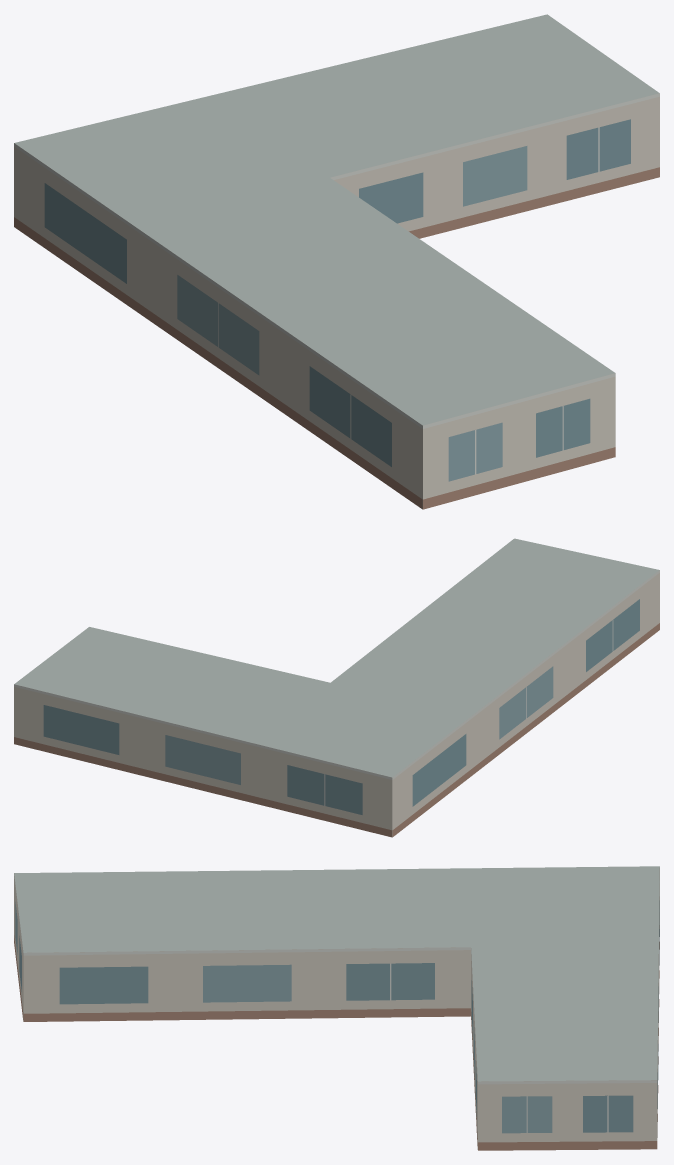
Rendered from survey-upis-32960883.glb.
The picture shows the model from 3 angles, top to bottom: view 1: azimuth 30°, elevation 25°; view 2: azimuth 150°, elevation 25°; view 3: azimuth 270°, elevation 25°; orthographic projection. The views are drawn at different scales.
Visible parts, largest first — view 1: survey-upis-32960883.tmp; view 2: survey-upis-32960883.tmp; view 3: survey-upis-32960883.tmp.
Boxes of the visible parts, box(x1,y1,x2,y2) form: survey-upis-32960883.tmp: box(14, 14, 659, 509); survey-upis-32960883.tmp: box(14, 538, 659, 837); survey-upis-32960883.tmp: box(14, 866, 659, 1150).
Bounding box in the file's own units: 20.36 × 3.05 × 25.81.
